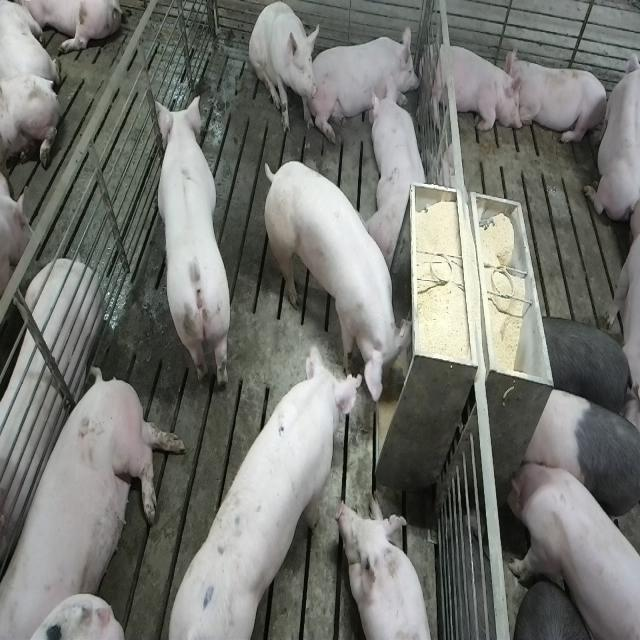Lateral_lying: (5, 362, 186, 636), (0, 258, 103, 579)
Sitting: (249, 2, 319, 136)
Standing: (164, 336, 363, 635), (262, 163, 409, 410), (504, 456, 638, 640), (150, 92, 230, 396), (518, 385, 638, 533), (537, 314, 633, 420)
Sternal_lying: (338, 495, 436, 640), (314, 22, 424, 138), (370, 86, 430, 268), (583, 39, 637, 225), (508, 52, 610, 149), (426, 38, 522, 137)
